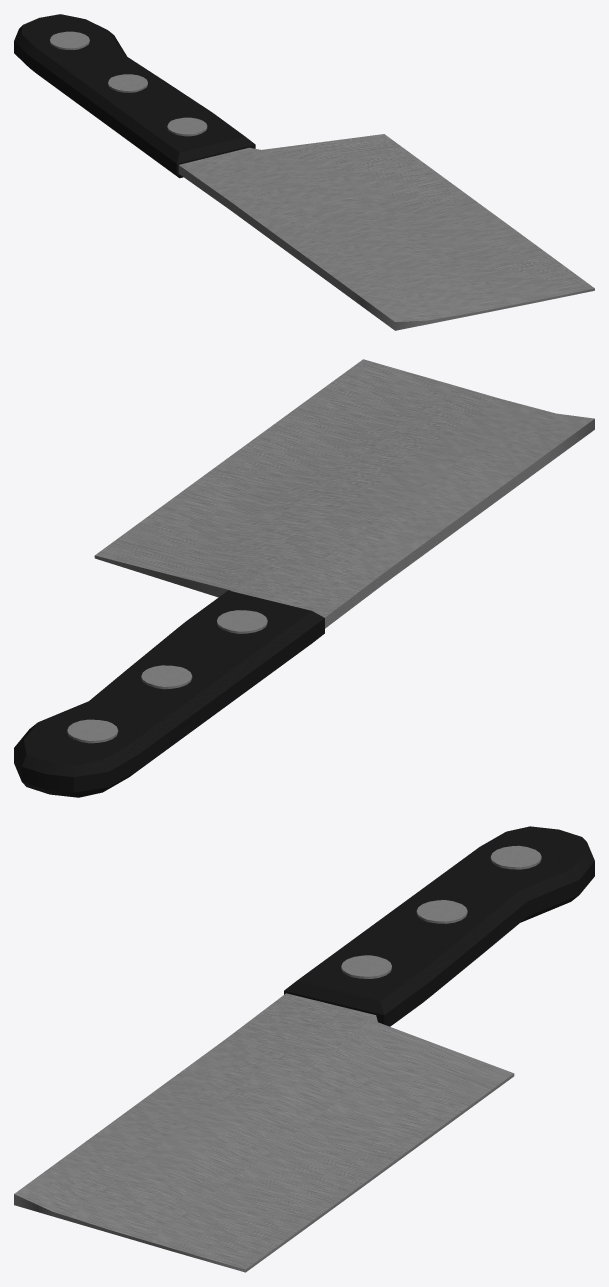
The model's file is Cleaver.FBX.
3 views of the same model, one above another, from view 1: azimuth 30°, elevation 25°; view 2: azimuth 150°, elevation 25°; view 3: azimuth 330°, elevation 25° (orthographic). The views are drawn at different scales.
Visible parts, largest first — view 1: Cleaver; view 2: Cleaver; view 3: Cleaver.
Part boxes in pixels (box(x1,y1,x2,y2)): Cleaver: box(14, 14, 594, 330); Cleaver: box(14, 359, 594, 797); Cleaver: box(14, 826, 594, 1272).
Size of the model in its own units: 7.97 by 1.15 by 28.76.
Materials: 2 (2 with a texture image).
